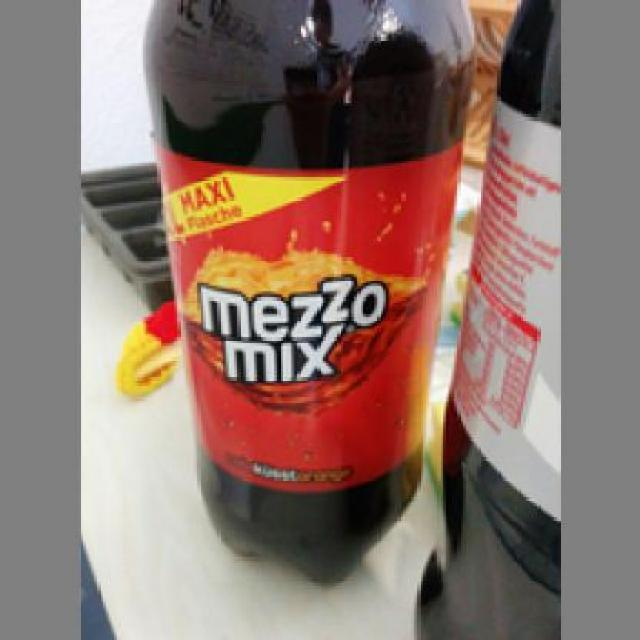Soda: (137, 0, 480, 580), (405, 0, 561, 637)
